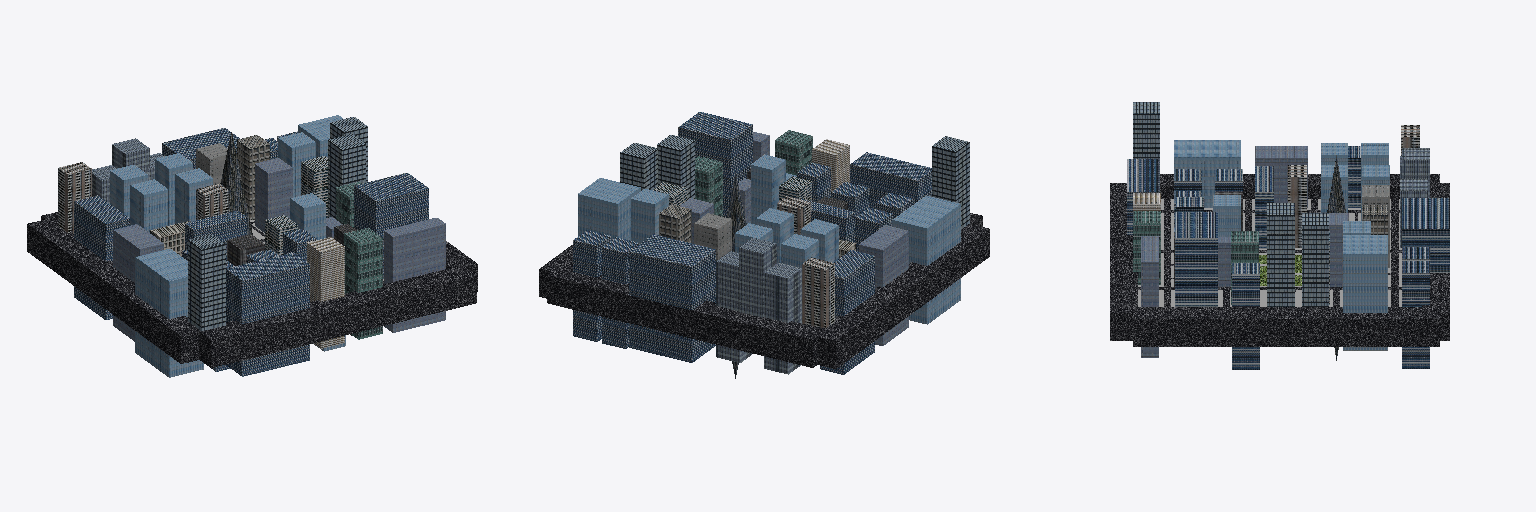
3 views of the same model, side by side, from view 1: azimuth 30°, elevation 25°; view 2: azimuth 150°, elevation 25°; view 3: azimuth 270°, elevation 25° (orthographic).
Visible parts, largest first — view 1: Box23, Box24, Box10, Box37, Box41, Box11, Box38, Box43, Box40, Box39, Box1, Box9 (+25 smaller); view 2: Box22, Box24, Box26, Box37, Box11, Box10, Box30, Box43, Box38, Box27, Box36, Box28 (+26 smaller); view 3: Box25, Box11, Box30, Box23, Box9, Box26, road1, Box31, Box37, Box45, Box32, Plane (+25 smaller).
Part boxes in pixels (x1,y1,x2,y2): Box23: (199,265,476,367); Box24: (27,219,199,363); Box10: (226,252,309,376); Box37: (135,249,203,377); Box41: (384,218,445,332); Box11: (354,173,428,278); Box38: (188,234,225,330); Box43: (74,195,129,319); Box40: (344,228,382,339); Box39: (307,237,344,348); Box1: (255,158,292,232); Box9: (328,134,365,218); Box22: (547,265,824,367); Box24: (813,224,989,368); Box26: (629,234,715,362); Box37: (892,195,960,324); Box11: (678,112,752,216); Box10: (850,152,931,208); Box30: (578,178,640,240); Box43: (820,250,874,374); Box38: (932,136,969,229); Box27: (764,262,801,374); Box36: (859,225,908,345); Box28: (739,238,776,317); Box25: (1133,307,1439,346); Box11: (1175,212,1217,306); Box30: (1343,235,1387,350); Box23: (1110,183,1137,340); Box9: (1267,203,1294,306); Box26: (1402,198,1449,272); road1: (1138,199,1401,306); Box31: (1302,213,1328,306); Box37: (1174,140,1240,207); Box45: (1402,261,1429,368); Box32: (1232,263,1259,369); Plane: (1138,199,1401,306).
Size of the model in its own units: 46.75 by 31.24 by 46.35.
17 materials, 16 textured.